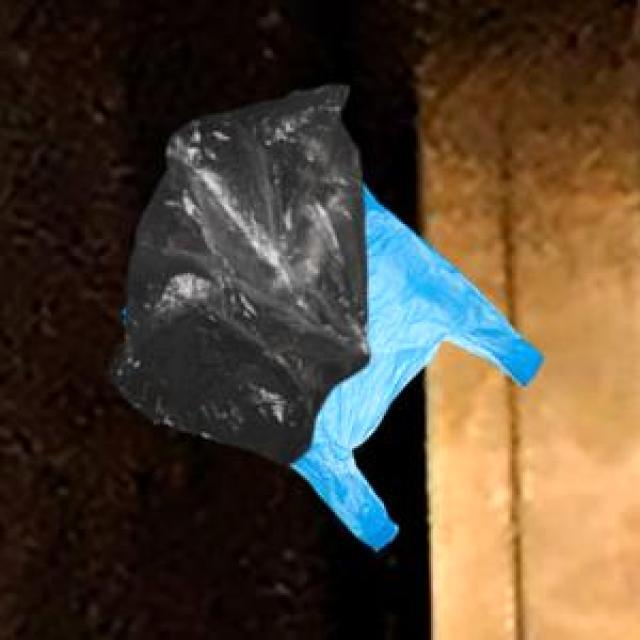Plastic_Bag: (105, 82, 368, 462), (287, 180, 541, 547)
